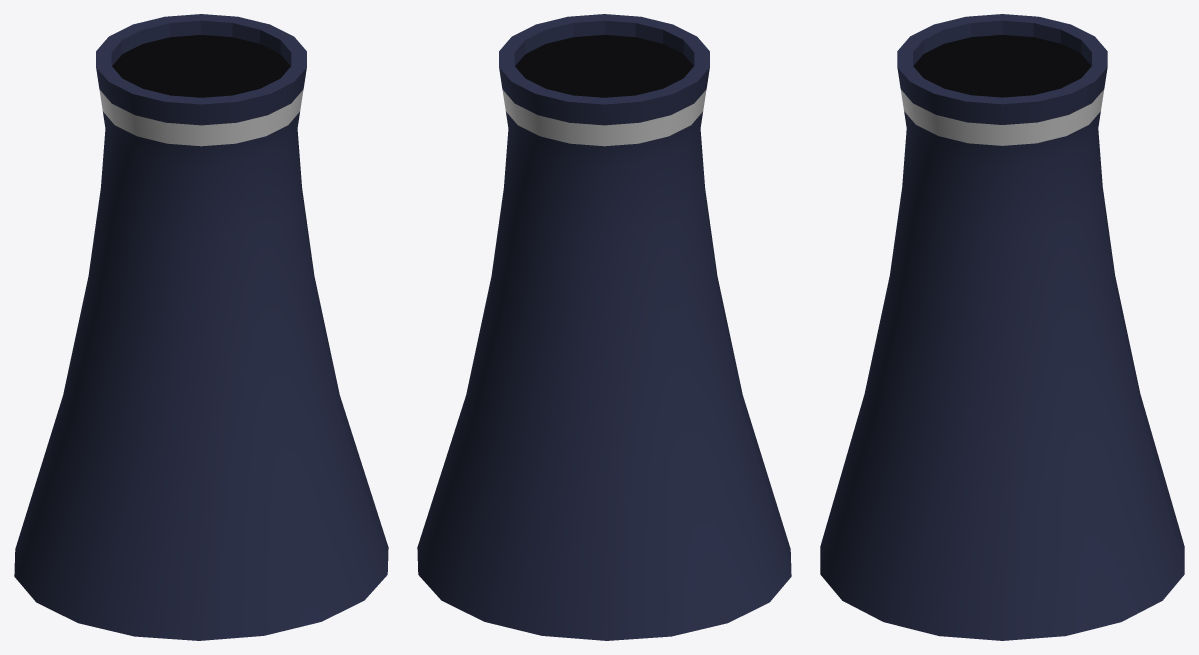
The model's file is Factory_part5.FBX.
3 views of the same model, side by side, from view 1: azimuth 30°, elevation 25°; view 2: azimuth 150°, elevation 25°; view 3: azimuth 270°, elevation 25° (orthographic).
Parts seen in each view (by area): view 1: Factory_part5; view 2: Factory_part5; view 3: Factory_part5.
Part boxes in pixels (bbox=[...]): Factory_part5: bbox=[14, 14, 388, 640]; Factory_part5: bbox=[417, 14, 791, 640]; Factory_part5: bbox=[820, 14, 1184, 640].
Bounding box in the file's own units: 254 × 369 × 243.
